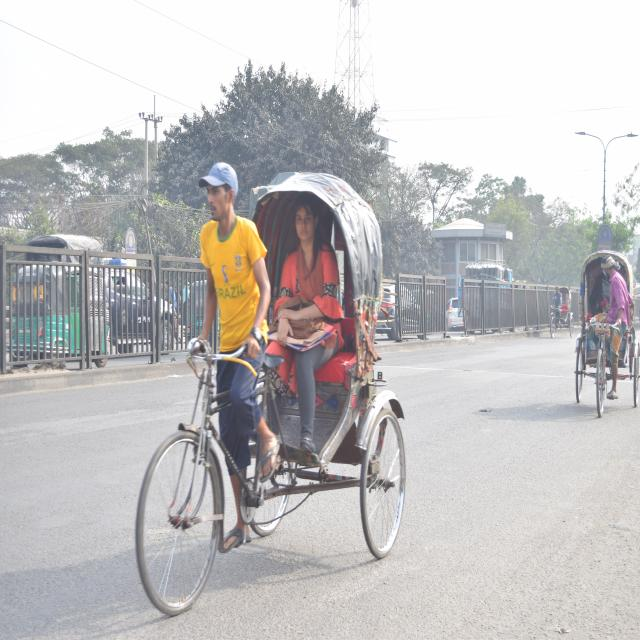car: (378, 280, 423, 340), (439, 288, 470, 330)
